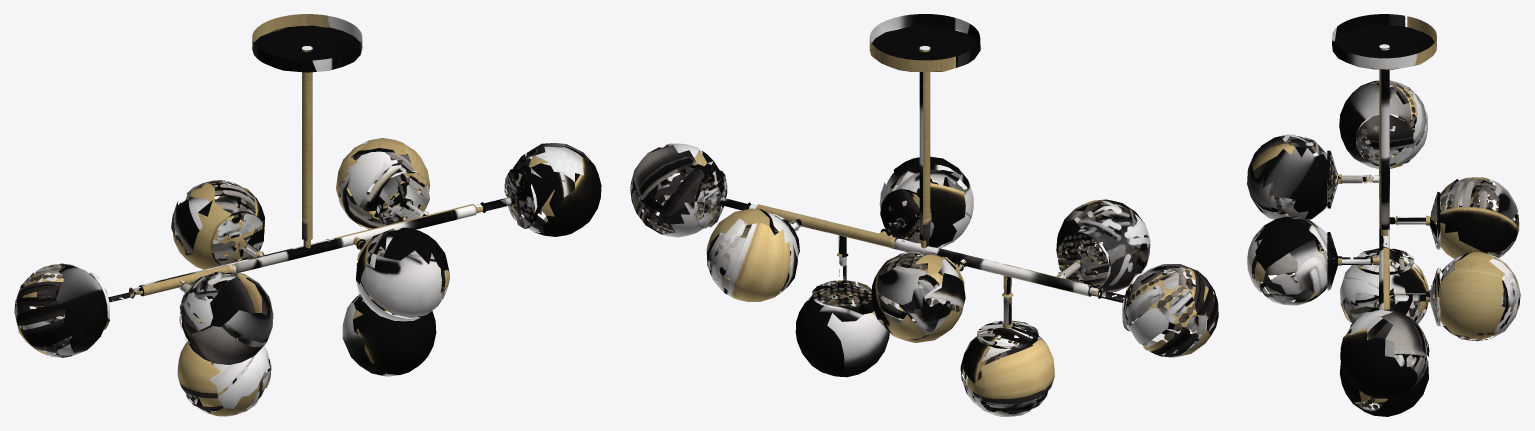
File: raw_model.obj
The picture shows the model from 3 angles, left to right: view 1: azimuth 30°, elevation 25°; view 2: azimuth 150°, elevation 25°; view 3: azimuth 270°, elevation 25°; orthographic projection. The views are drawn at different scales.
Visible parts, largest first — view 1: glass_001, solid_003; view 2: glass_001, solid_003, solid_005; view 3: glass_001, solid_003.
Part boxes in pixels (bbox=[...]): glass_001: bbox=[14, 138, 601, 416]; solid_003: bbox=[89, 14, 541, 339]; glass_001: bbox=[630, 143, 1218, 416]; solid_003: bbox=[694, 14, 1146, 359]; solid_005: bbox=[657, 171, 1183, 357]; glass_001: bbox=[1247, 80, 1520, 416]; solid_003: bbox=[1318, 14, 1459, 326].
Size of the model in its own units: 0.8816 by 0.5198 by 0.3817.
